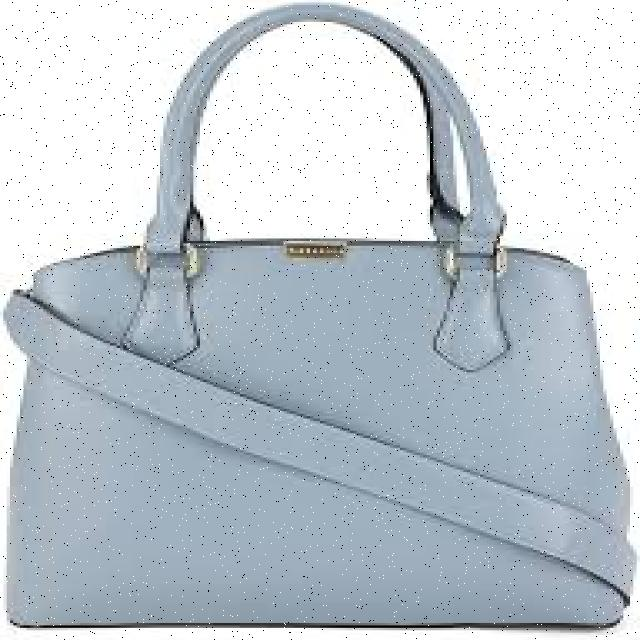handbag: (0, 0, 637, 628)
